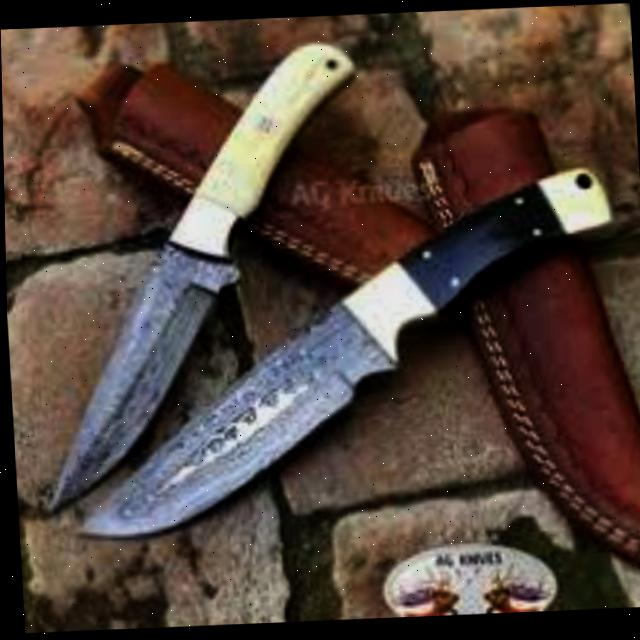knife: (51, 161, 627, 542), (12, 38, 376, 514)
